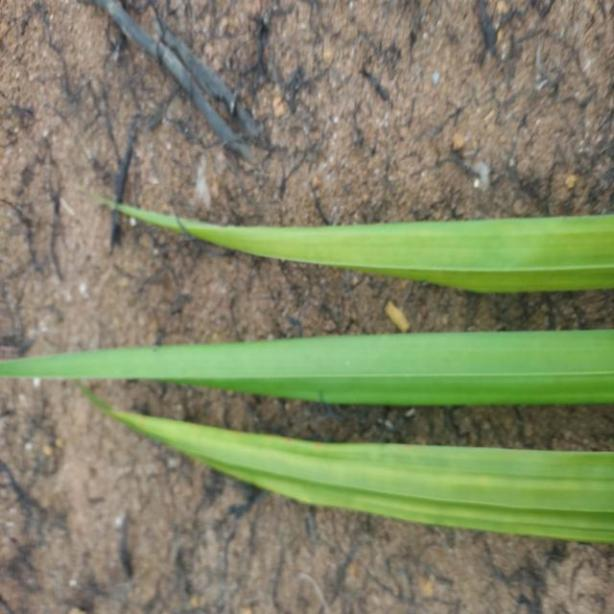nitrogen: (96, 410, 614, 540), (0, 320, 614, 409), (108, 200, 614, 300)
